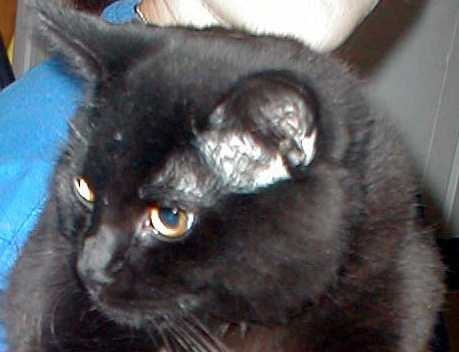Cat: (5, 56, 352, 351)
